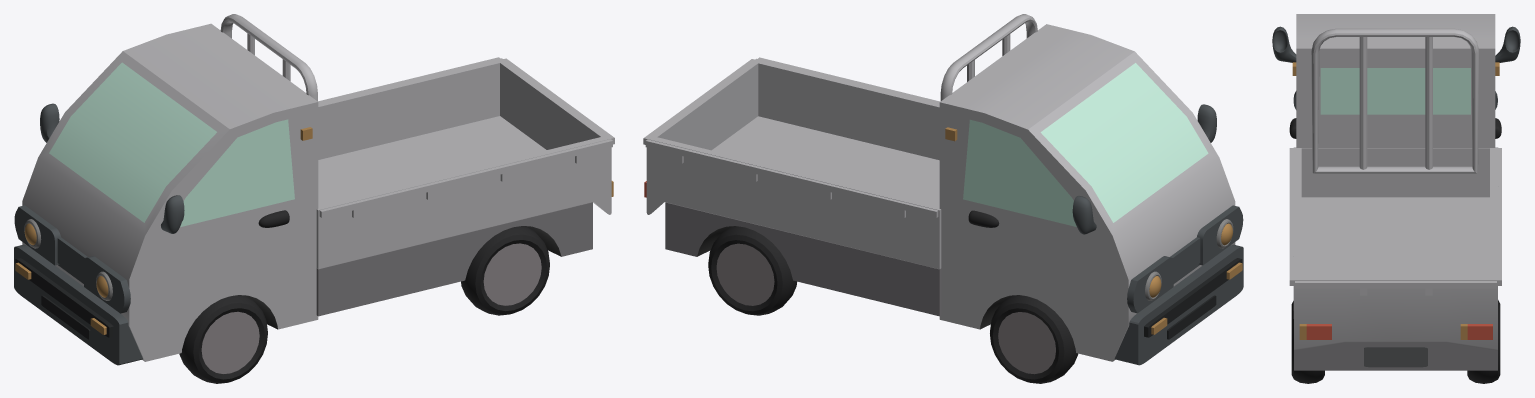
The model's file is Truck.fbx.
The picture shows the model from 3 angles, left to right: view 1: azimuth 30°, elevation 25°; view 2: azimuth 150°, elevation 25°; view 3: azimuth 270°, elevation 25°; orthographic projection. The views are drawn at different scales.
Parts seen in each view (by area): view 1: Cube.005, Cube.004, Cube.002, Tire.001, Tire, Cube.007, Cube.016, Cube.015, Cube.008, Cube.012, Cube.013, Cube.011 (+3 smaller); view 2: Cube.005, Cube.004, Cube.002, Tire.001, Tire, Cube.007, Cube.016, Cube.015, Cube.008, Cube.013, Cube.012, Cube.011 (+3 smaller); view 3: Cube.004, Cube.005, Cube.015, Cube.002, Cylinder, Cube.017, Cube.022, Cube.016, Tire, Cube.014, Cube.019, Cube.018 (+1 smaller).
Part boxes in pixels (x1,y1,x2,y2): Cube.005: [22, 23, 318, 361]; Cube.004: [316, 58, 611, 268]; Cube.002: [316, 202, 592, 316]; Tire.001: [179, 295, 267, 383]; Tire: [461, 226, 549, 315]; Cube.007: [14, 244, 142, 365]; Cube.016: [318, 57, 612, 217]; Cube.015: [220, 14, 317, 101]; Cube.008: [15, 258, 113, 337]; Cube.012: [84, 256, 130, 313]; Cube.013: [14, 205, 60, 265]; Cube.011: [57, 237, 87, 283]; Cube.005: [939, 24, 1235, 361]; Cube.004: [646, 58, 941, 269]; Cube.002: [665, 202, 941, 316]; Tire.001: [990, 295, 1078, 383]; Tire: [708, 226, 796, 315]; Cube.007: [1114, 244, 1243, 365]; Cube.016: [645, 57, 940, 217]; Cube.015: [940, 14, 1037, 100]; Cube.008: [1144, 258, 1242, 337]; Cube.013: [1127, 256, 1173, 313]; Cube.012: [1197, 205, 1243, 265]; Cube.011: [1170, 237, 1200, 283]; Cube.004: [1293, 147, 1498, 350]; Cube.005: [1296, 14, 1495, 147]; Cube.015: [1311, 28, 1479, 173]; Cube.002: [1293, 311, 1497, 370]; Cylinder: [1359, 37, 1432, 169]; Cube.017: [1295, 281, 1496, 288]; Cube.022: [1364, 347, 1427, 367]; Cube.016: [1289, 148, 1501, 285]; Tire: [1291, 300, 1500, 383]; Cube.014: [1299, 324, 1492, 339]; Cube.019: [1495, 26, 1520, 62]; Cube.018: [1272, 26, 1296, 62].
Bounding box in the file's own units: 623 × 338 × 287.
